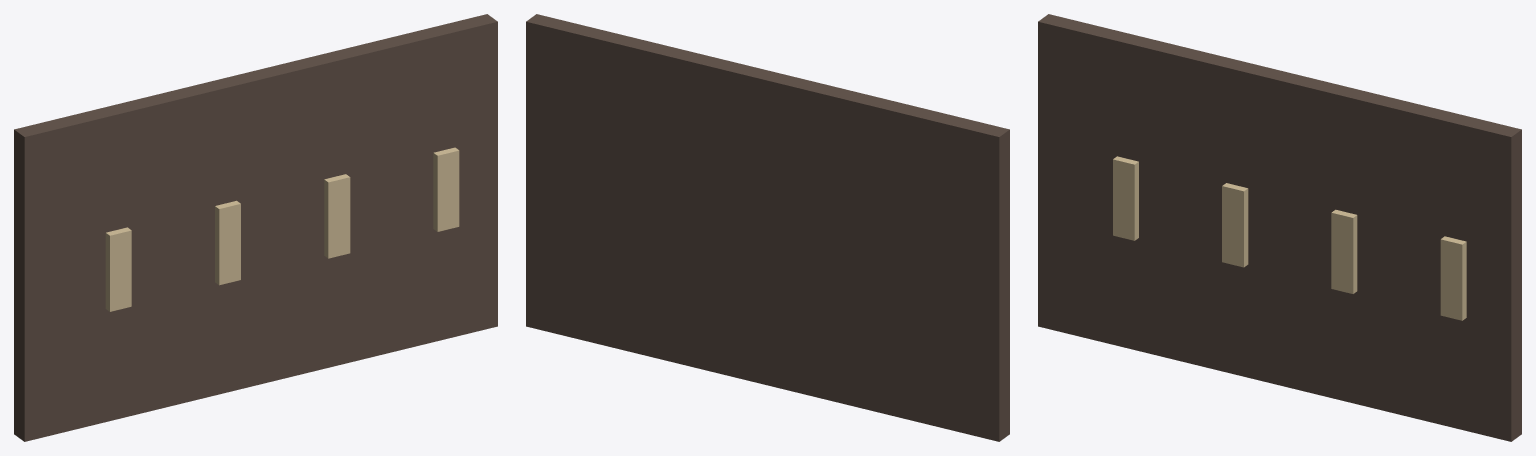
The model's file is tablero_llaves.glb.
3 renders of one model, left to right at view 1: azimuth 30°, elevation 25°; view 2: azimuth 150°, elevation 25°; view 3: azimuth 330°, elevation 25°, orthographic.
Parts seen in each view (by area): view 1: TableroLlaves; view 2: TableroLlaves; view 3: TableroLlaves.
Part boxes in pixels (<box>): TableroLlaves: <box>14,14,497,441</box>; TableroLlaves: <box>526,14,1009,441</box>; TableroLlaves: <box>1038,14,1521,441</box>.
Size of the model in its own units: 1.3 by 0.8 by 0.075.
